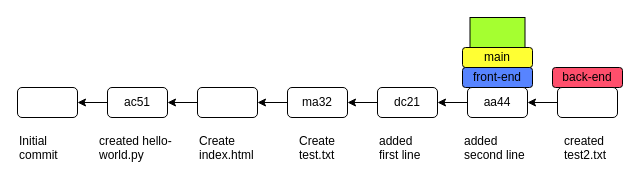
Some shapes in this 640 by 181 pixel diagram are drawn without their labels. The shapes that lost their labels are listed below. From the top down, each one's centre as x and y in pixels, then its label:
the point at 497,32: HEAD
the point at 47,102: 54vkv
the point at 227,102: 12ba
the point at 587,102: fa12
